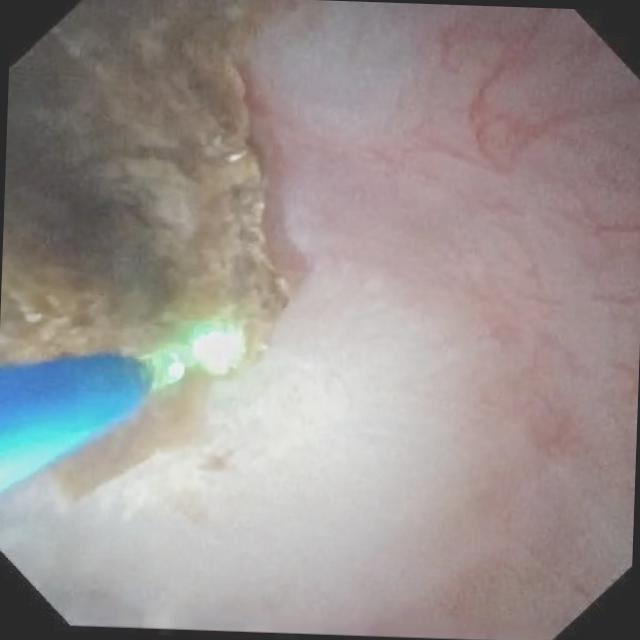laser-fibre: (138, 351, 183, 389)
laser_dot: (191, 326, 244, 374)
stone-new: (0, 0, 284, 497)
